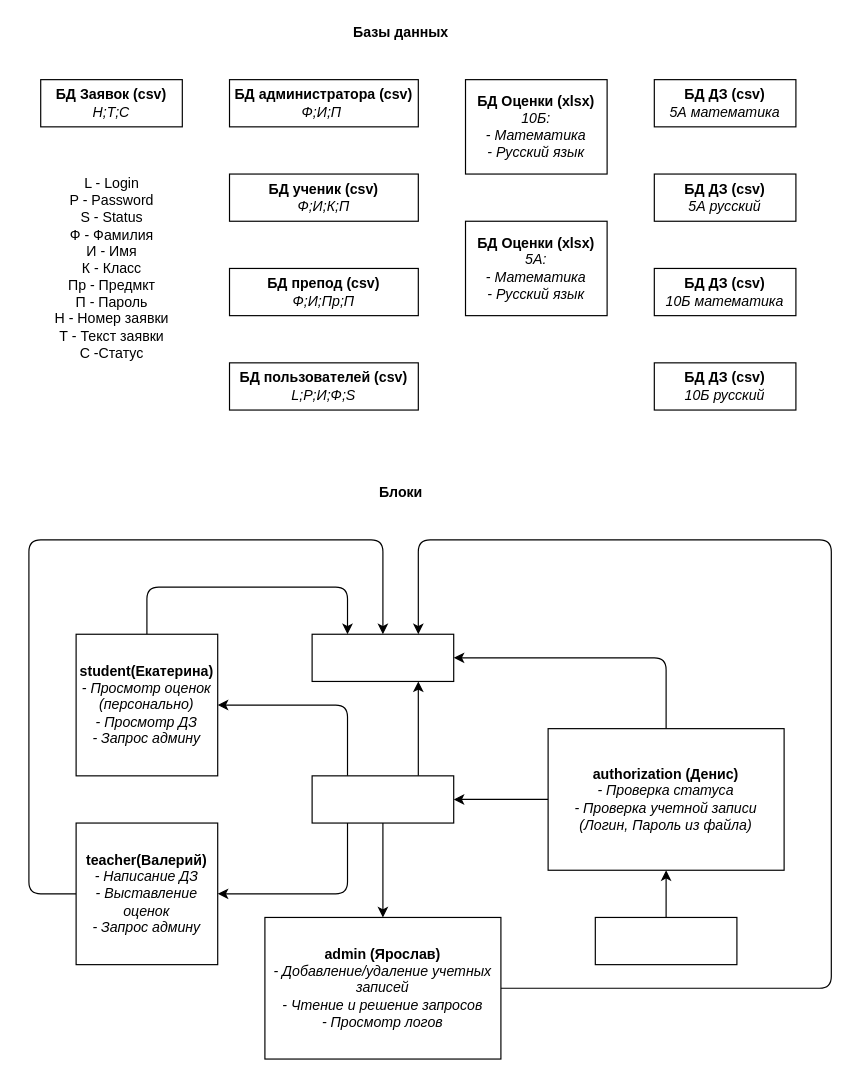
Some shapes in this 861 by 1080 pixel diagram are drawn without their labels. Each missing label, with the centre of its shape:
logger(Тимофей): point (382, 657)
main: point (665, 940)
menu(Николай): point (382, 799)
